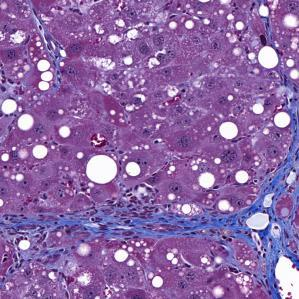fibrosis: (63, 192, 229, 244), (245, 167, 298, 286)
